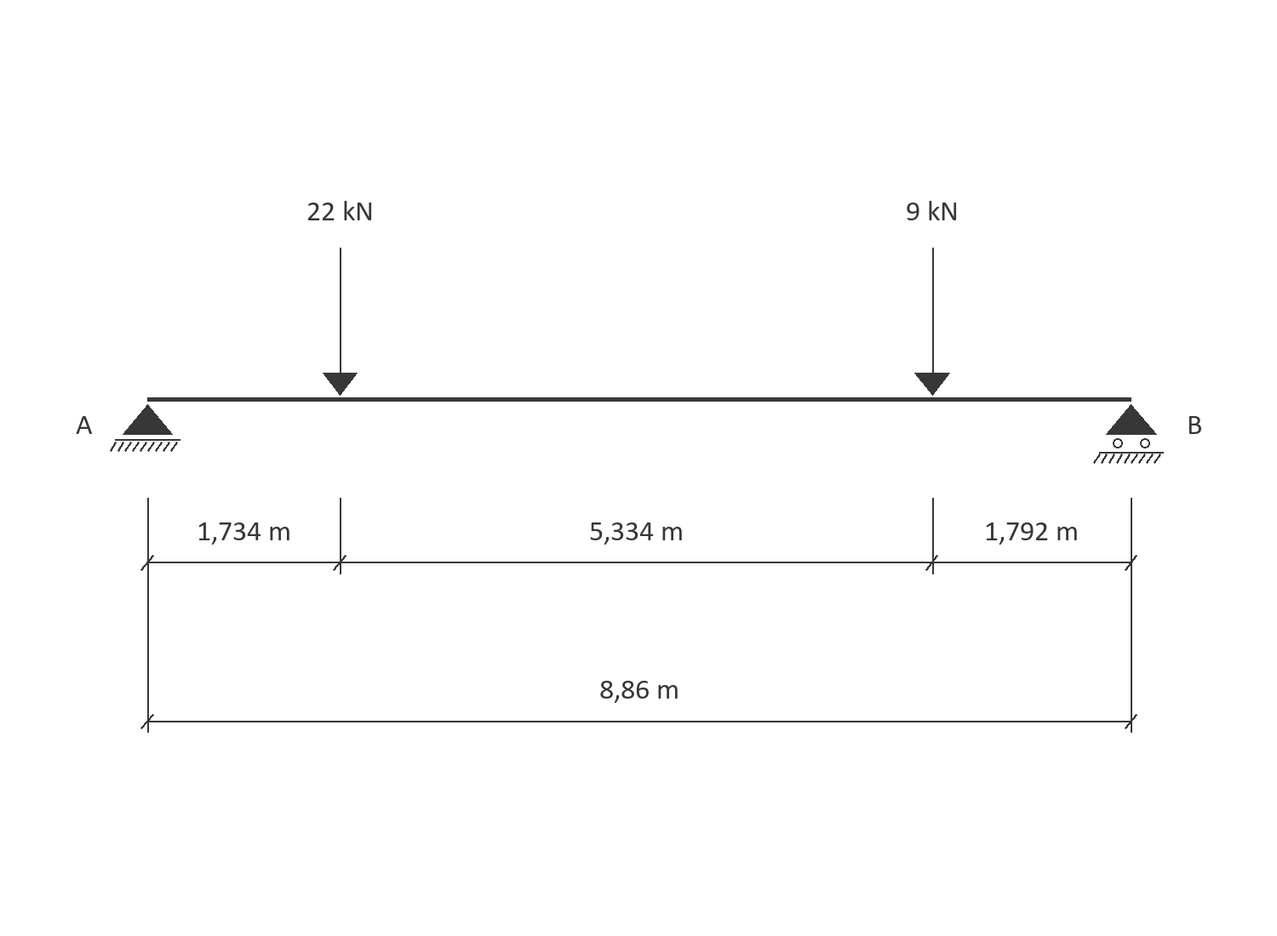pin_support: (110, 404, 180, 452)
point_load: (914, 248, 950, 396), (323, 248, 358, 396)
roller_support: (1093, 404, 1164, 464)
